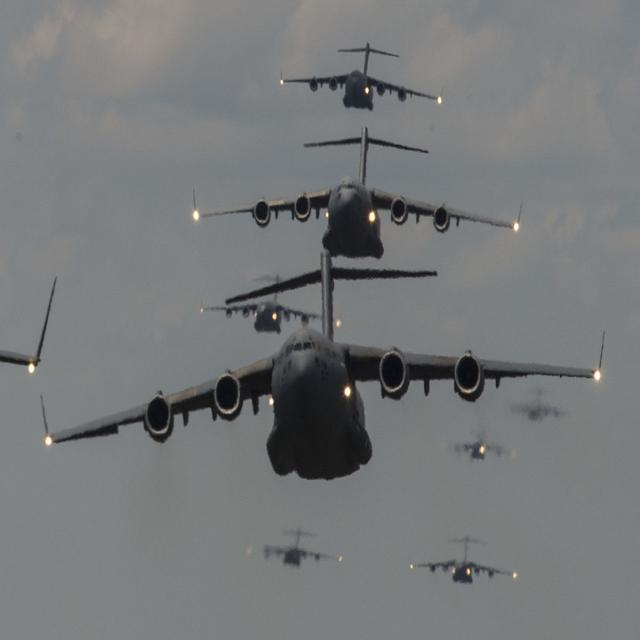MIL_Plane: (40, 212, 605, 442), (194, 124, 522, 260), (280, 42, 443, 111), (199, 235, 344, 296), (28, 496, 131, 547), (247, 523, 342, 566), (506, 386, 570, 424), (64, 428, 128, 464)
